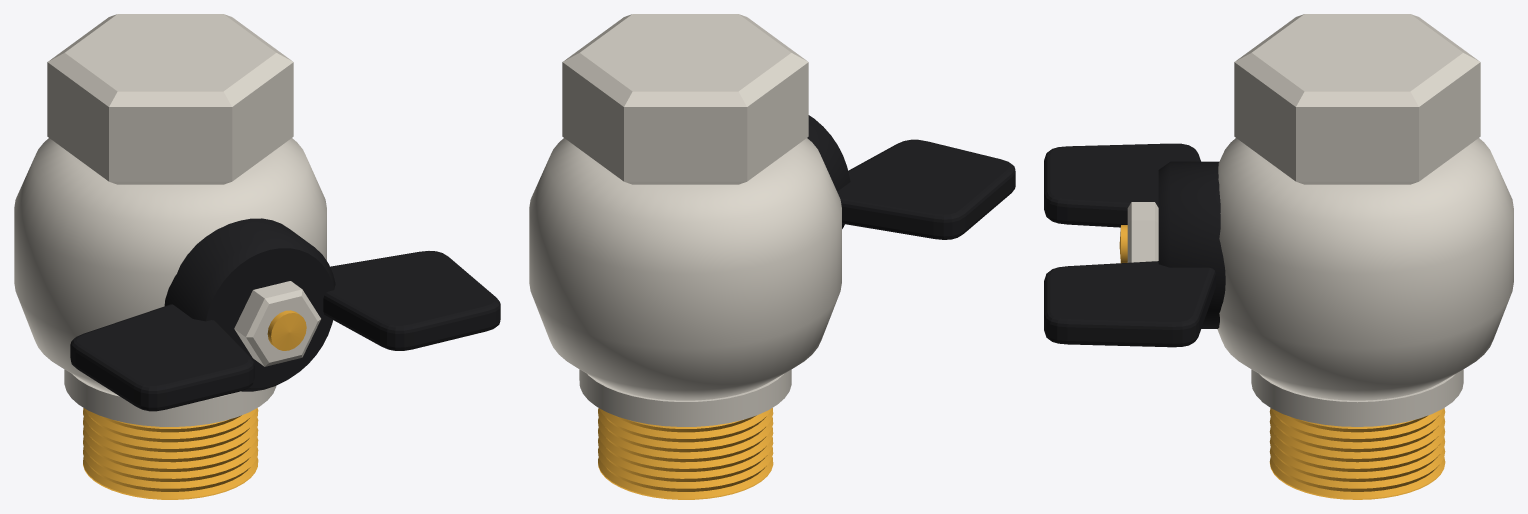
The model's file is ball_valve_svb0004.glb.
3 renders of one model, left to right at view 1: azimuth 30°, elevation 25°; view 2: azimuth 150°, elevation 25°; view 3: azimuth 270°, elevation 25°, orthographic.
Visible parts, largest first — view 1: кран ВР SW31, корпус крана, крыло бабочки, воротник бабочки, крыло бабочки.001, кран НР, кран буртик НР, гайка бабочки, вставка гайки; view 2: корпус крана, кран ВР SW31, крыло бабочки, кран НР, кран буртик НР, воротник бабочки; view 3: корпус крана, кран ВР SW31, крыло бабочки.001, кран НР, крыло бабочки, воротник бабочки, кран буртик НР, гайка бабочки.
Boxes of the visible parts, x1=… form: кран ВР SW31: x1=47, y1=14, x2=293, y2=184; корпус крана: x1=14, y1=138, x2=326, y2=393; крыло бабочки: x1=70, y1=304, x2=254, y2=411; воротник бабочки: x1=164, y1=218, x2=335, y2=391; крыло бабочки.001: x1=323, y1=251, x2=500, y2=350; кран НР: x1=83, y1=408, x2=258, y2=499; кран буртик НР: x1=64, y1=369, x2=276, y2=426; гайка бабочки: x1=234, y1=281, x2=320, y2=366; вставка гайки: x1=267, y1=310, x2=306, y2=350; корпус крана: x1=529, y1=138, x2=841, y2=400; кран ВР SW31: x1=562, y1=14, x2=808, y2=184; крыло бабочки: x1=837, y1=139, x2=1015, y2=239; кран НР: x1=598, y1=408, x2=773, y2=499; кран буртик НР: x1=579, y1=369, x2=791, y2=426; воротник бабочки: x1=807, y1=115, x2=850, y2=228; корпус крана: x1=1217, y1=138, x2=1513, y2=400; кран ВР SW31: x1=1234, y1=14, x2=1480, y2=184; крыло бабочки.001: x1=1044, y1=261, x2=1215, y2=347; кран НР: x1=1269, y1=408, x2=1445, y2=499; крыло бабочки: x1=1044, y1=143, x2=1200, y2=227; воротник бабочки: x1=1158, y1=161, x2=1225, y2=328; кран буртик НР: x1=1251, y1=369, x2=1463, y2=426; гайка бабочки: x1=1127, y1=202, x2=1158, y2=262.
Bounding box in the file's own units: 0.0632 × 0.066 × 0.0685.
